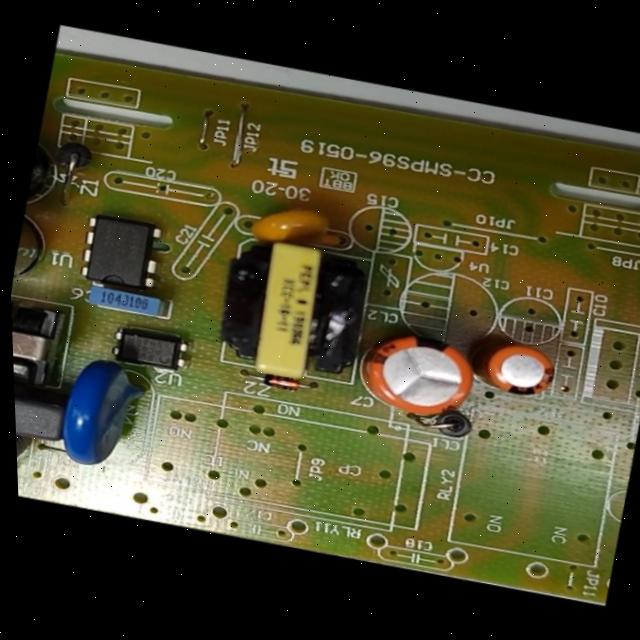Cap1: (340, 310, 487, 439)
Cap2: (456, 325, 572, 415)
Cap3: (7, 201, 58, 303)
Cap4: (20, 124, 90, 227)
MOSFET: (67, 201, 174, 304)
Mov: (44, 348, 170, 485)
Resistor: (16, 427, 38, 491)
Transformer: (202, 223, 375, 396), (11, 293, 80, 399)
